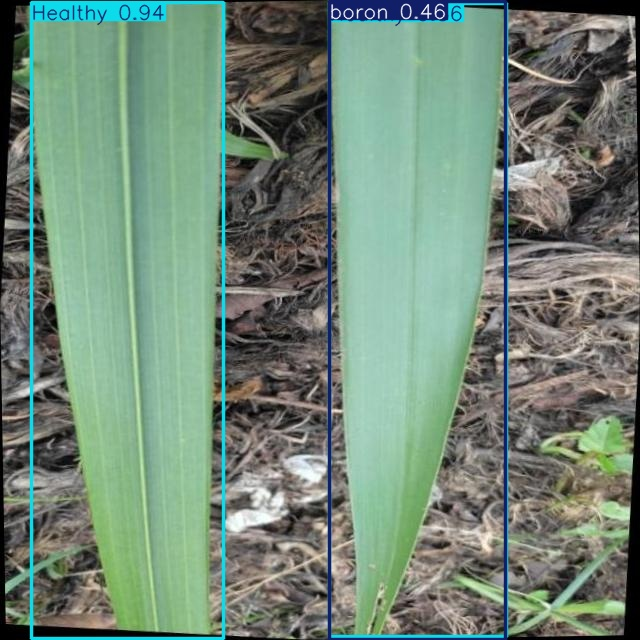Healthy: (32, 2, 223, 638), (330, 3, 507, 637)
nitrogen: (329, 1, 506, 640)
